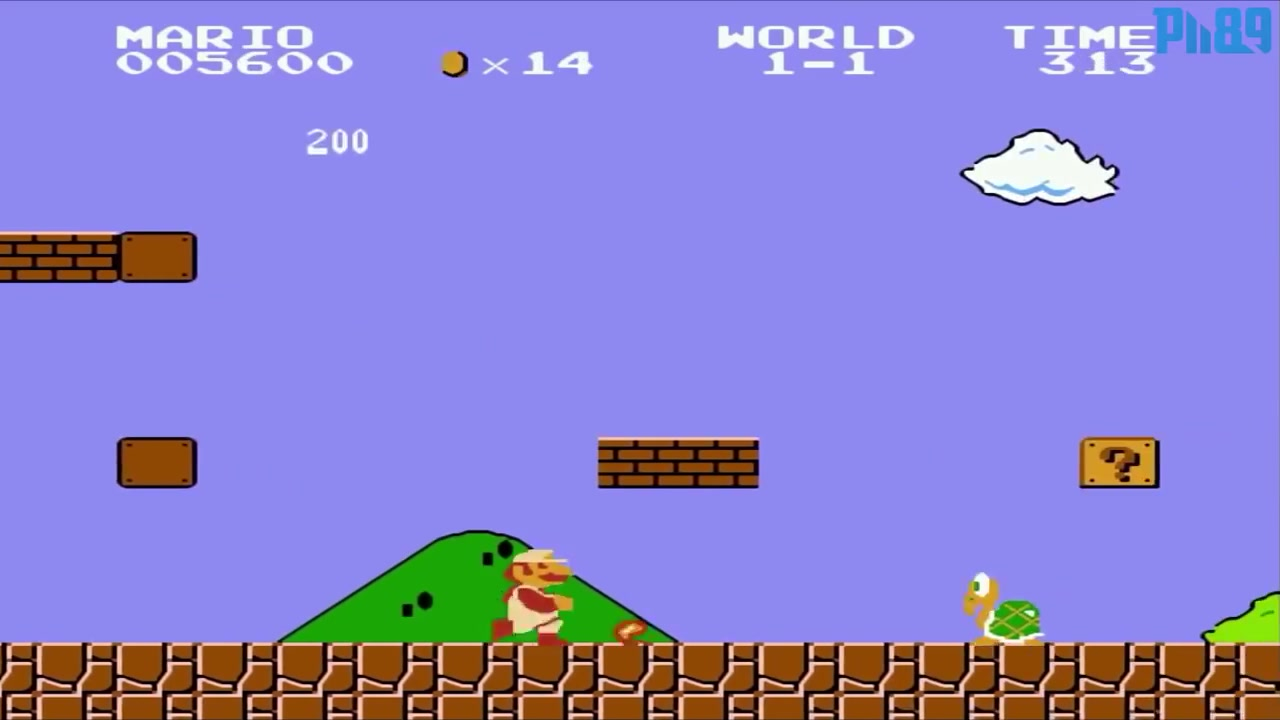mario: (485, 544, 582, 645)
